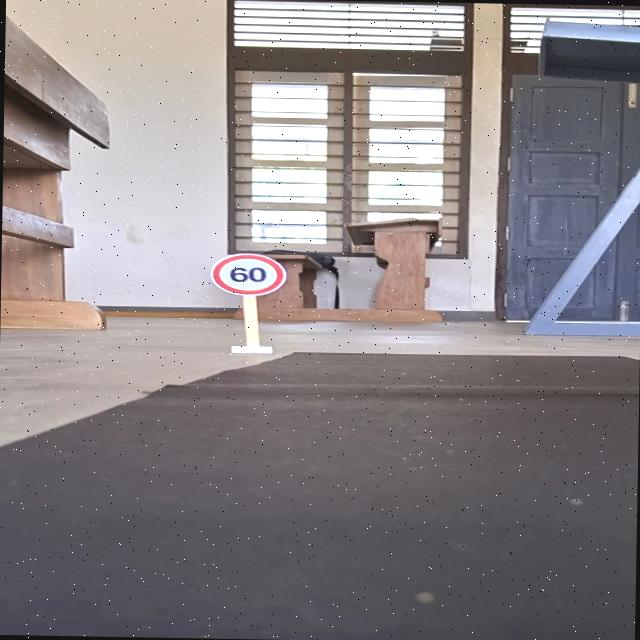Speed60: (210, 252, 287, 297)
